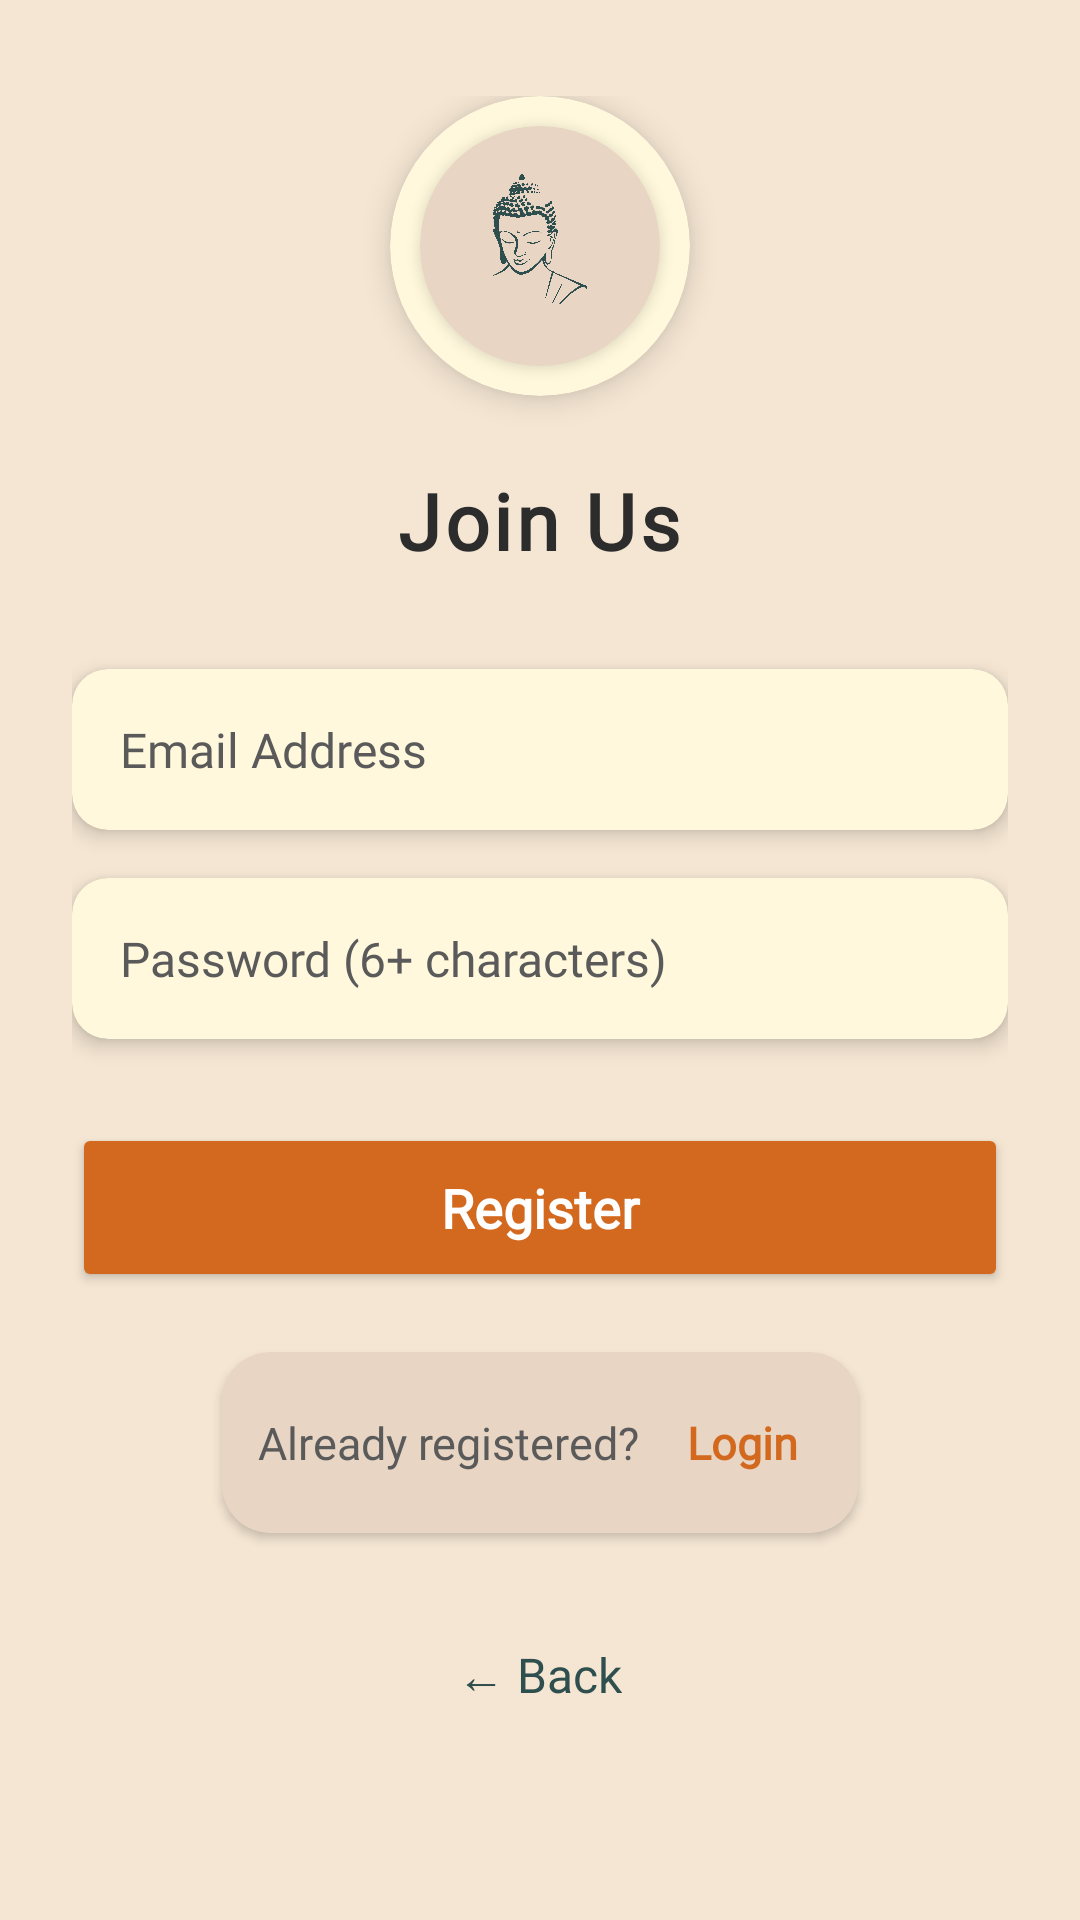

Icons on this 1080×1920 Android screen, each with the point to tap as (x,y):
Buddha icon: (540,239)
